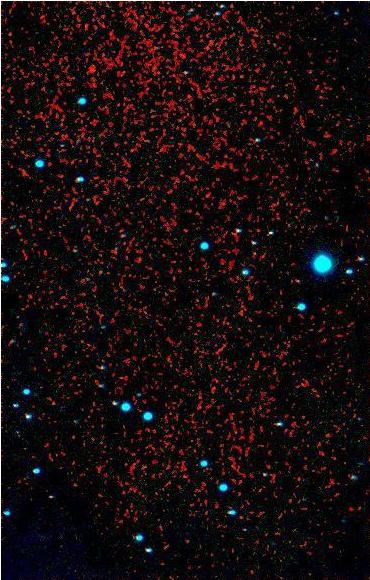star: (80, 51, 110, 81)
